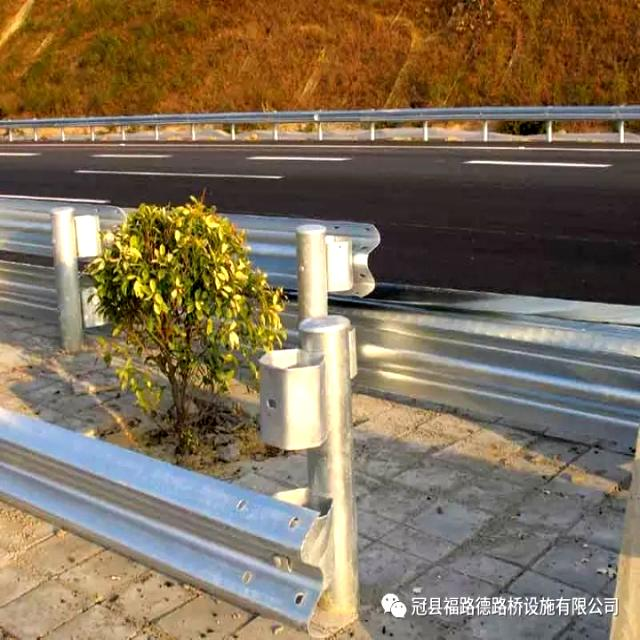Guard rail: (0, 410, 330, 627), (0, 105, 639, 141), (226, 215, 380, 296), (0, 197, 126, 258), (0, 261, 56, 317), (282, 300, 298, 344)
Tree: (88, 198, 285, 456)
